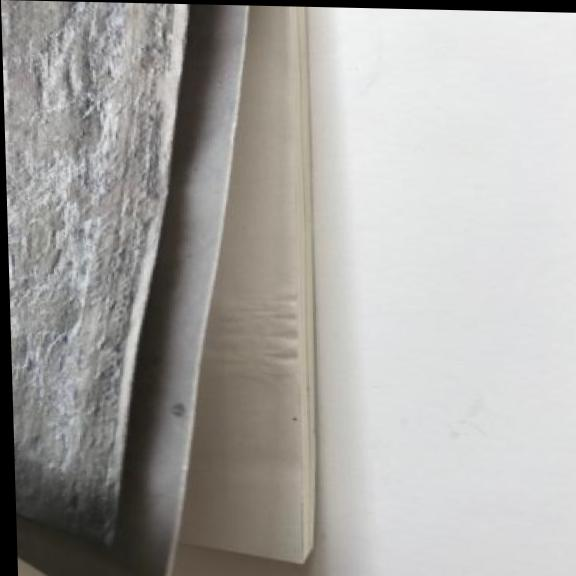Kertas: (0, 1, 331, 576)
